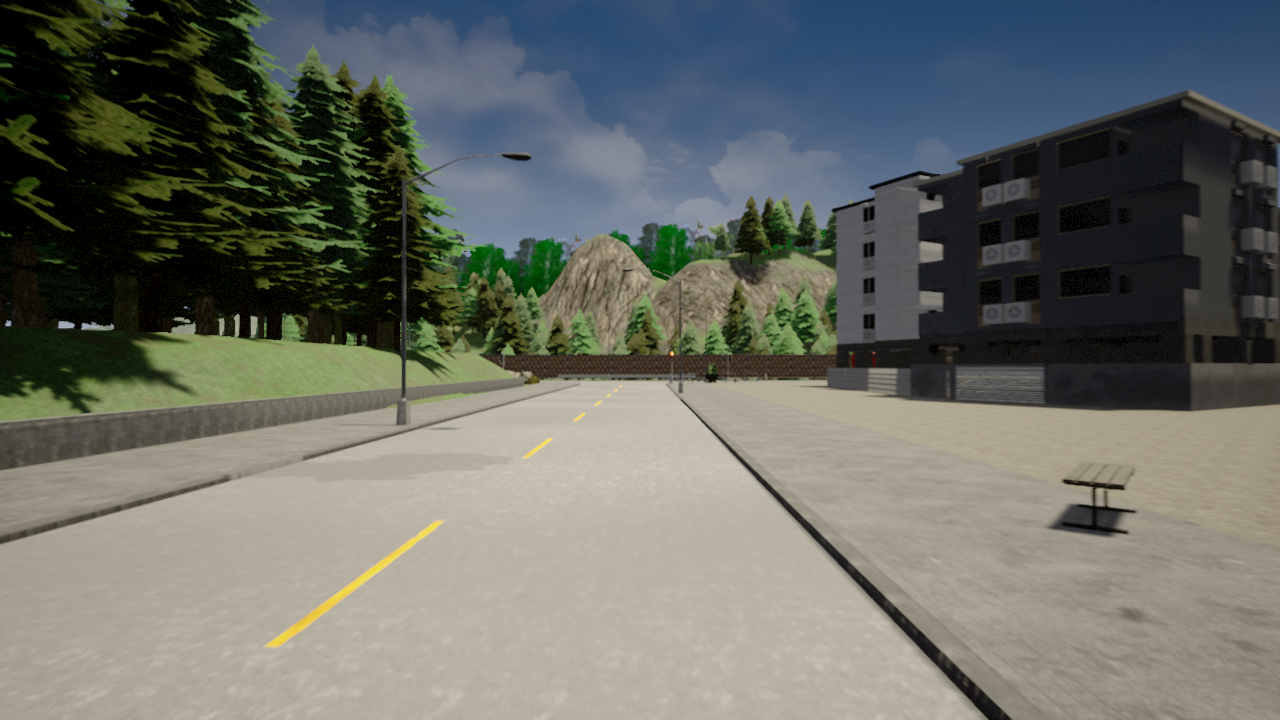red: (669, 349, 674, 362)
